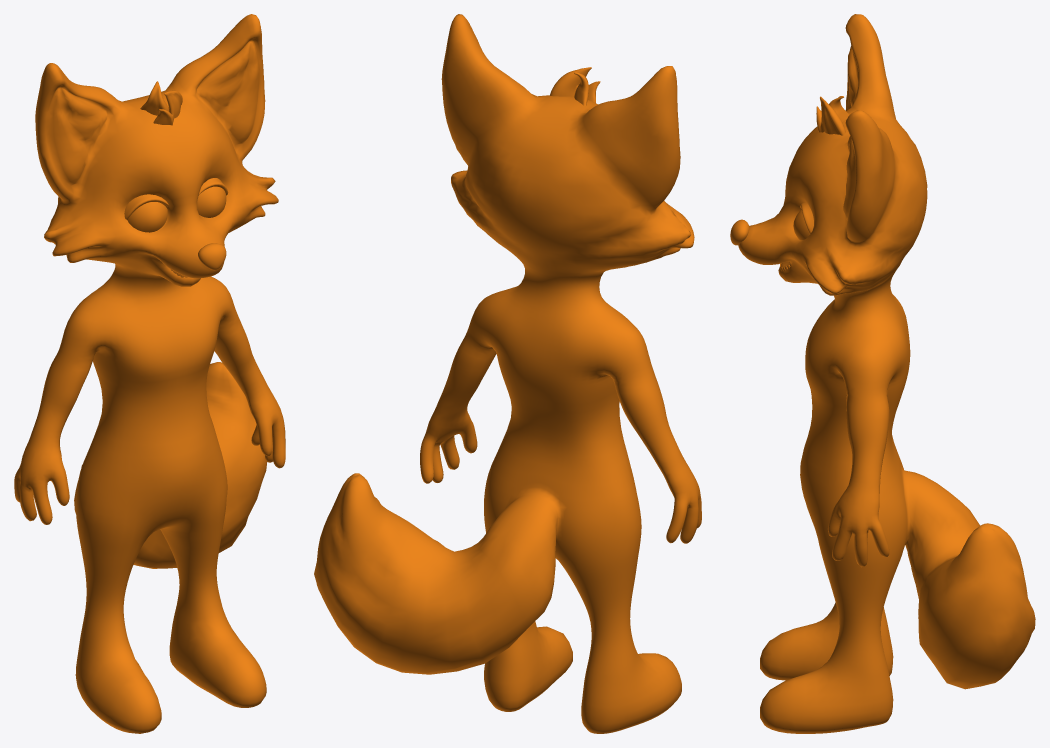
Rendered from FoxBody_low.fbx.
3 renders of one model, left to right at view 1: azimuth 30°, elevation 25°; view 2: azimuth 150°, elevation 25°; view 3: azimuth 270°, elevation 25°, orthographic. The views are drawn at different scales.
Parts seen in each view (by area): view 1: BodyFox_low, EyeFox_low, Eyelids_low; view 2: BodyFox_low; view 3: BodyFox_low.
Part boxes in pixels (<box>): BodyFox_low: <box>14,14,285,733</box>; EyeFox_low: <box>127,186,226,232</box>; Eyelids_low: <box>124,178,228,219</box>; BodyFox_low: <box>314,14,701,733</box>; BodyFox_low: <box>730,14,1035,733</box>.
Bounding box in the file's own units: 213 × 440 × 191.
